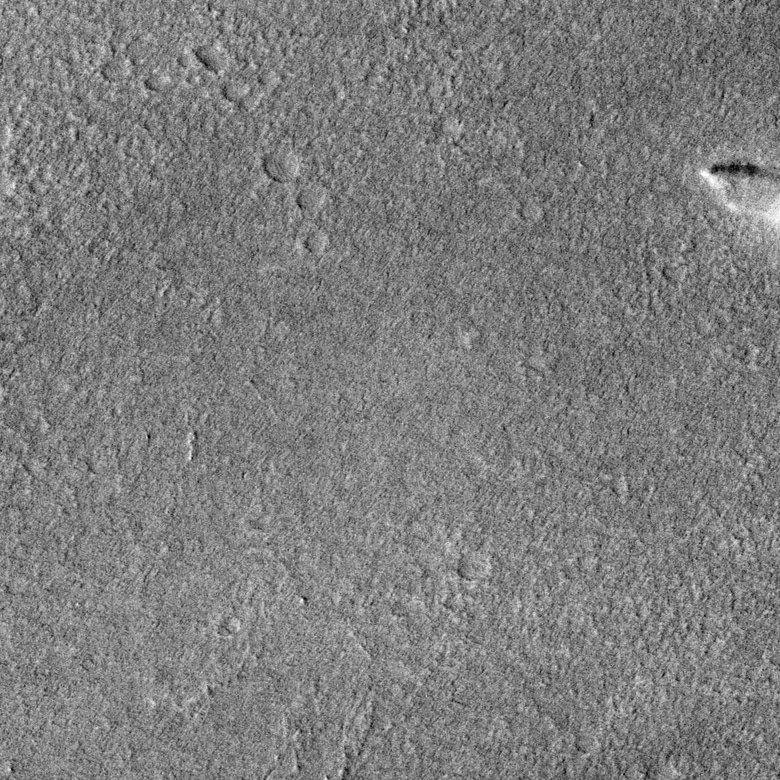dust_devil: (695, 155, 780, 227)
